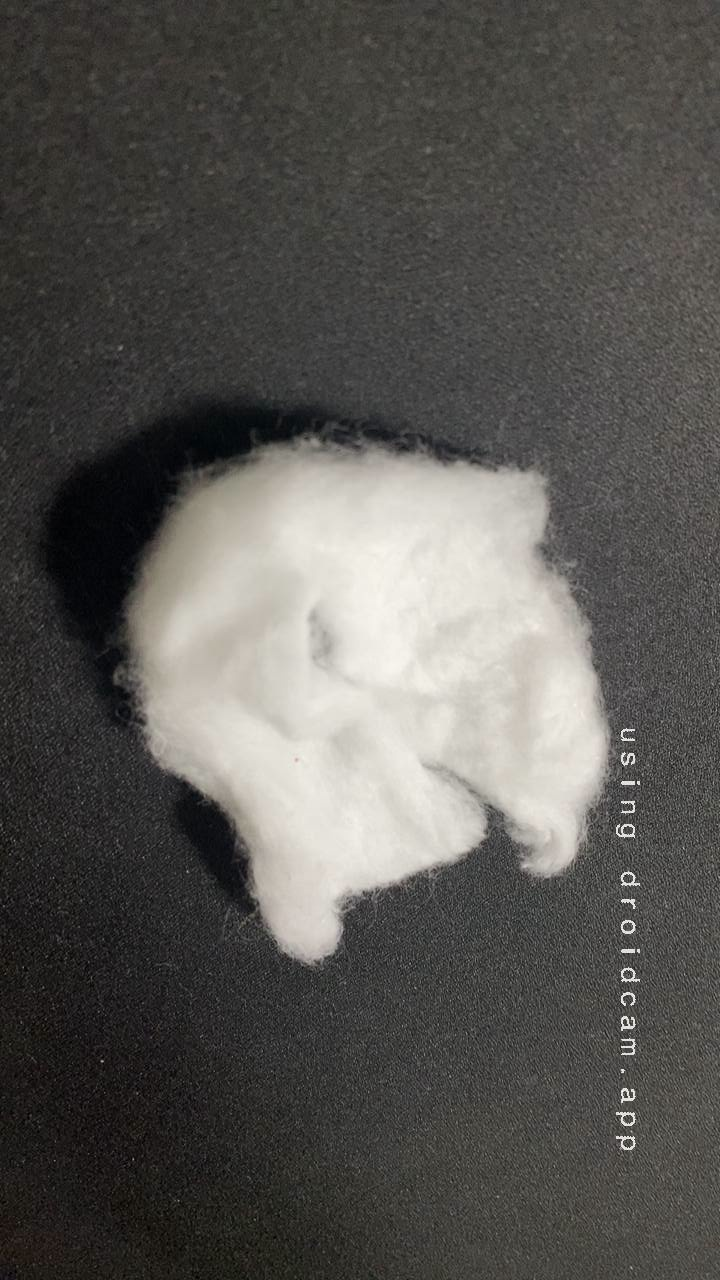cotton: (78, 425, 678, 959)
